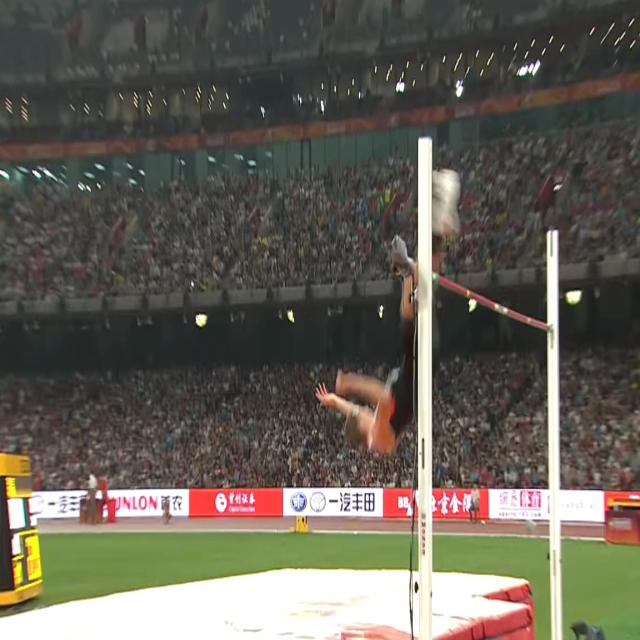land: (313, 167, 459, 450)
